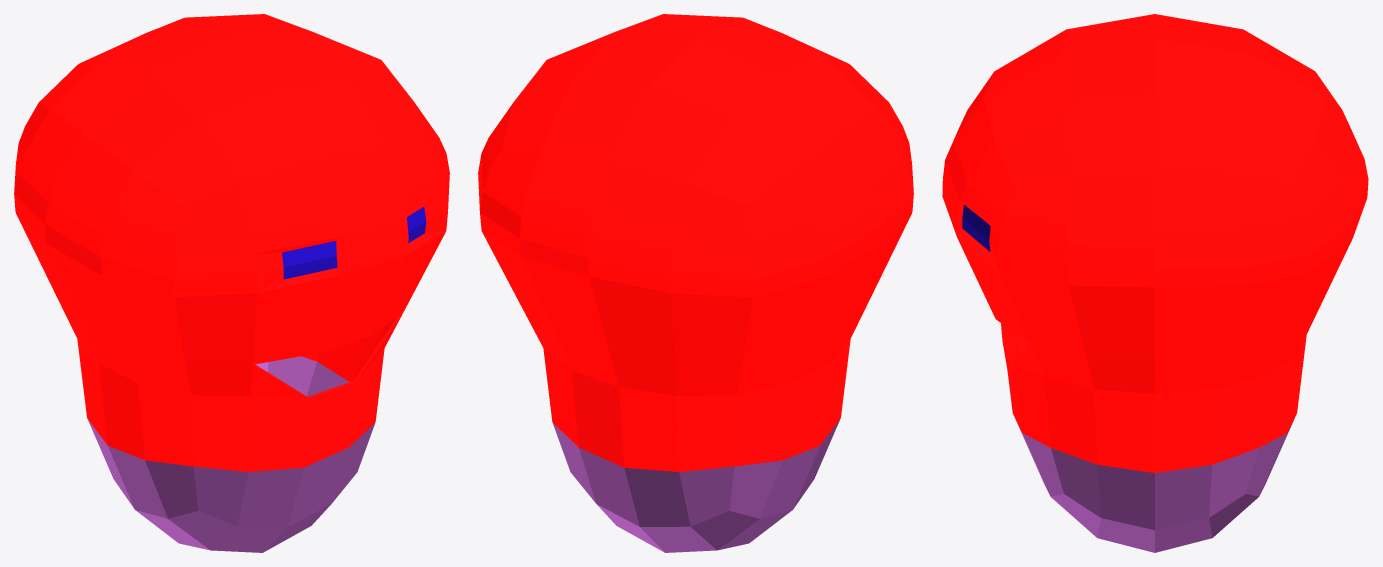
File: ElectricKazul.fbx
3 renders of one model, left to right at view 1: azimuth 30°, elevation 25°; view 2: azimuth 150°, elevation 25°; view 3: azimuth 270°, elevation 25°, orthographic.
Visible parts, largest first — view 1: Cube; view 2: Cube; view 3: Cube.
Part boxes in pixels (x1,y1,x2,y2): Cube: (14,14,449,552); Cube: (478,14,913,552); Cube: (942,14,1368,552).
Bounding box in the file's own units: 154 × 200 × 154.
